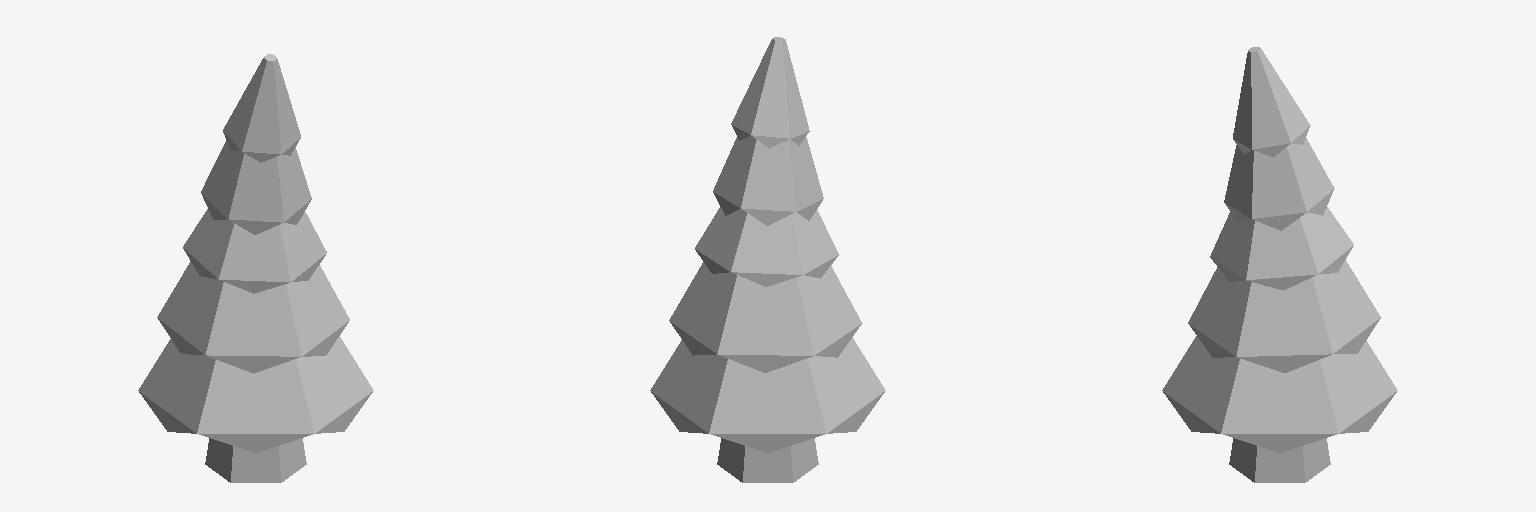
The model's file is tree_pineRoundD.obj.
3 renders of one model, left to right at view 1: azimuth 30°, elevation 25°; view 2: azimuth 150°, elevation 25°; view 3: azimuth 270°, elevation 25°, orthographic.
Parts seen in each view (by area): view 1: tree_pineRoundD; view 2: tree_pineRoundD; view 3: tree_pineRoundD.
Part boxes in pixels (bbox=[...]): tree_pineRoundD: bbox=[138, 54, 373, 482]; tree_pineRoundD: bbox=[650, 37, 885, 482]; tree_pineRoundD: bbox=[1162, 47, 1397, 482].
Size of the model in its own units: 0.4804 by 1.08 by 0.5547.